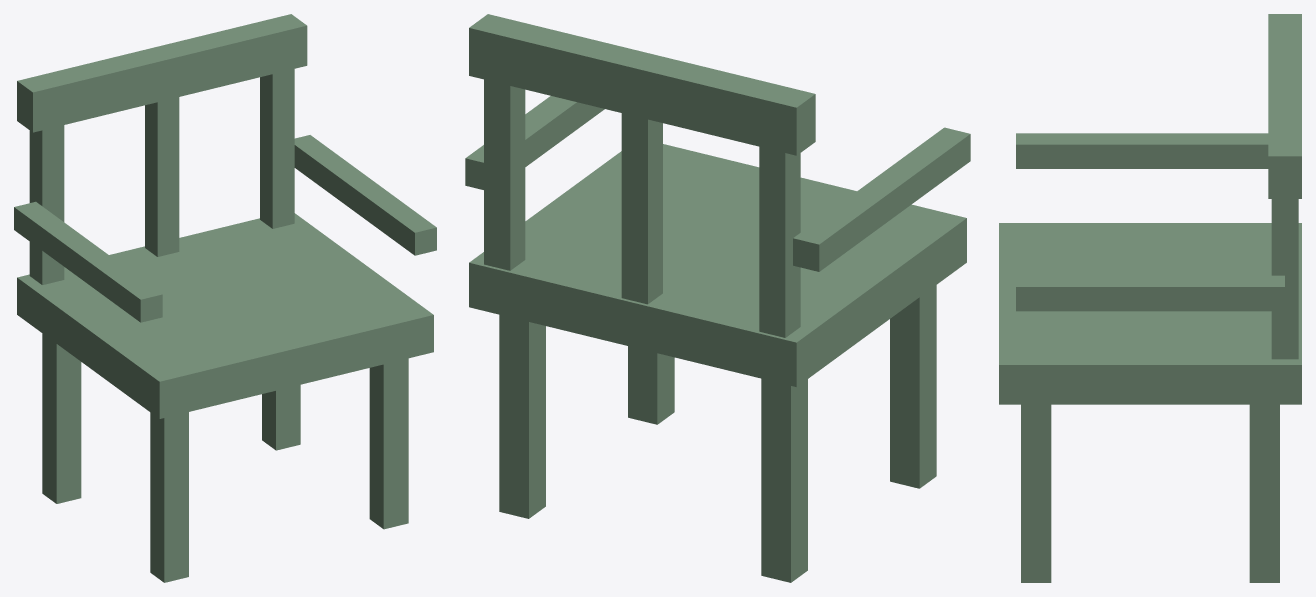
The model's file is chair.glb.
The picture shows the model from 3 angles, left to right: view 1: azimuth 30°, elevation 25°; view 2: azimuth 150°, elevation 25°; view 3: azimuth 270°, elevation 25°; orthographic projection. The views are drawn at different scales.
Bounding box in the file's own units: 1.08 × 1.42 × 0.9.
